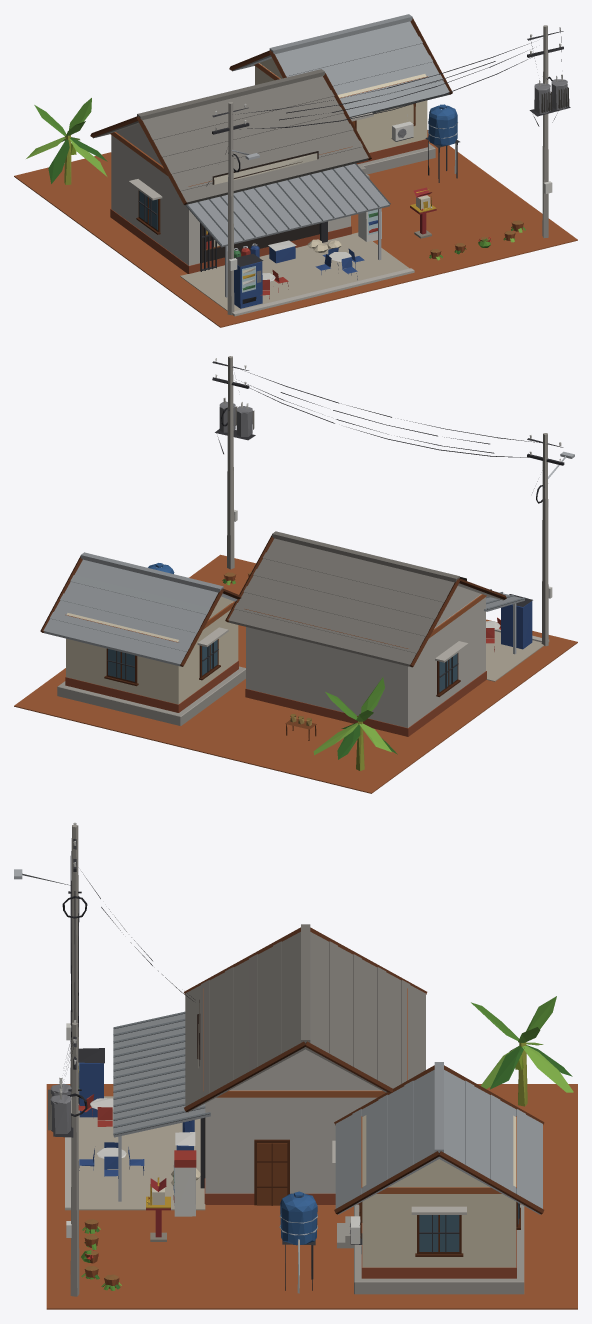
The model's file is shop_1.glb.
3 renders of one model, top to bottom at view 1: azimuth 30°, elevation 25°; view 2: azimuth 150°, elevation 25°; view 3: azimuth 270°, elevation 25°, orthographic. The views are drawn at different scales.
Visible parts, largest first — view 1: body, windows; view 2: body, windows; view 3: body, windows.
Boxes of the visible parts, x1,y1,x2,y2 form: body: [14, 14, 577, 327]; windows: [139, 191, 319, 262]; body: [14, 356, 577, 793]; windows: [108, 640, 457, 692]; body: [14, 822, 577, 1309]; windows: [204, 1118, 518, 1251].
Size of the model in its own units: 16.1 by 9.31 by 16.88.
